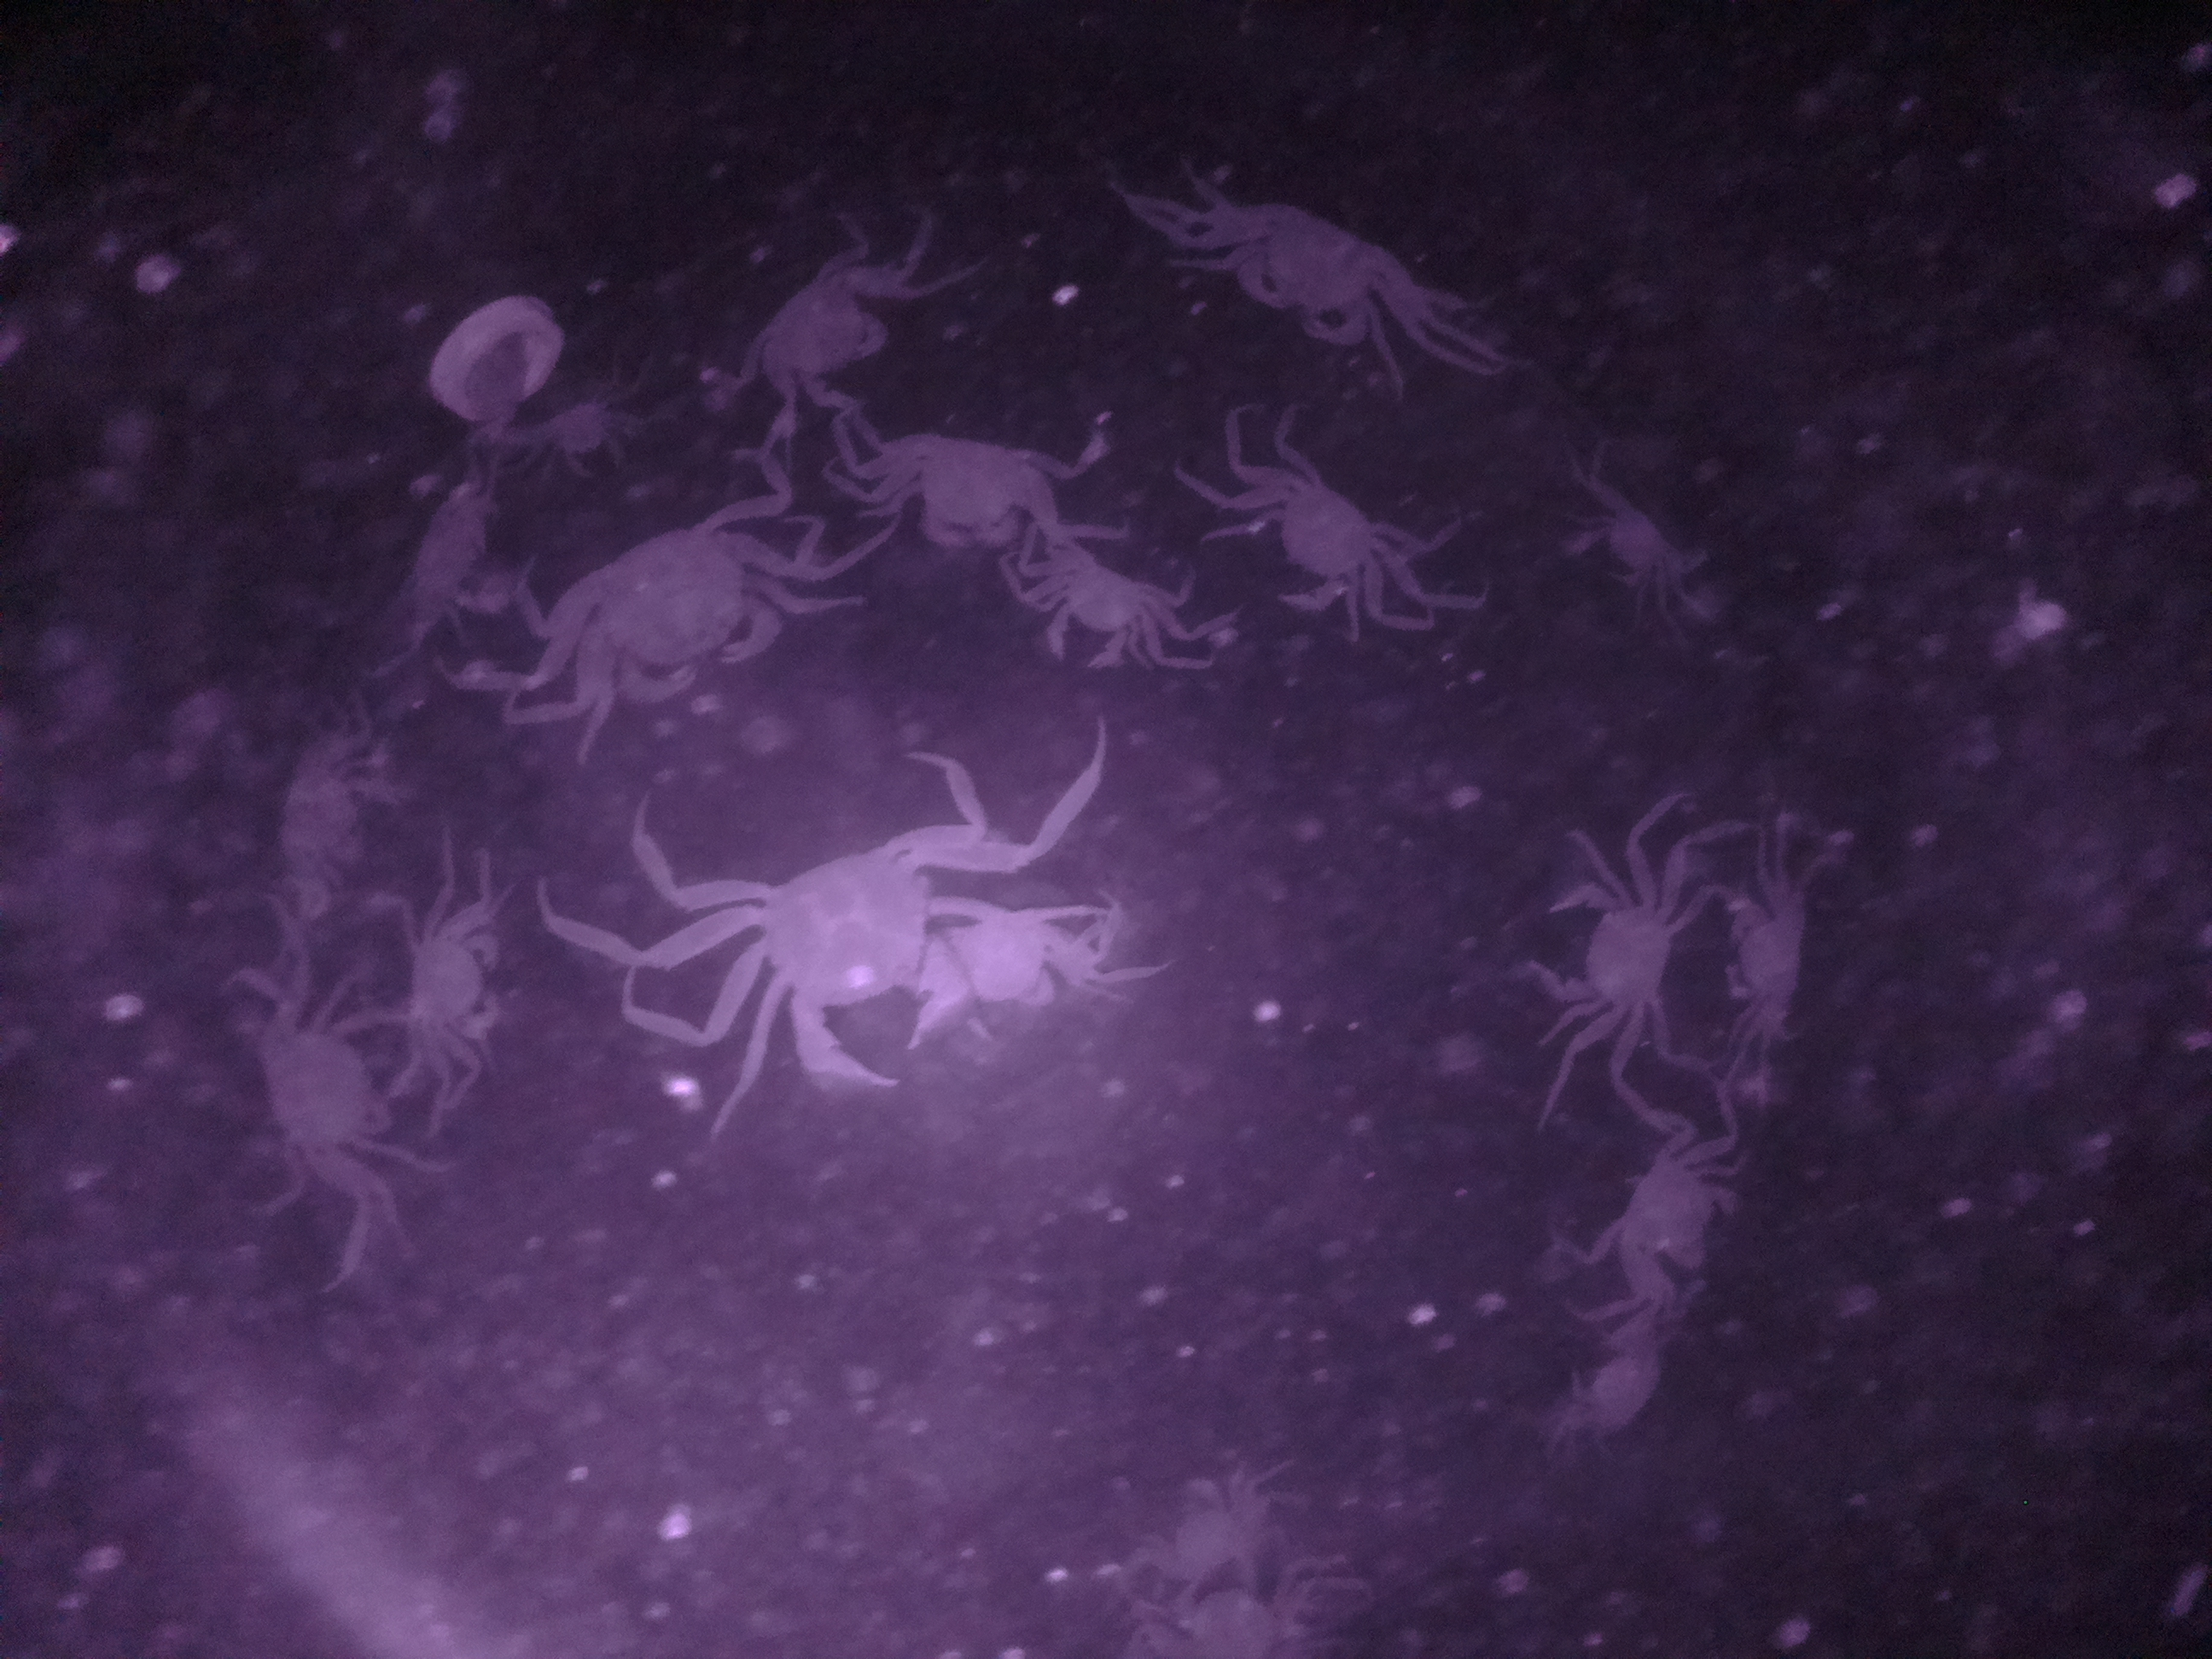Crab: (745, 819, 1000, 1115), (564, 500, 805, 720), (1184, 190, 1430, 359), (232, 986, 395, 1202), (1527, 863, 1702, 1044), (1221, 462, 1397, 626), (733, 258, 906, 415), (883, 415, 1042, 563), (397, 896, 523, 1079), (1606, 1136, 1740, 1297), (1019, 552, 1165, 676), (1716, 871, 1824, 1033), (1559, 493, 1686, 598)
